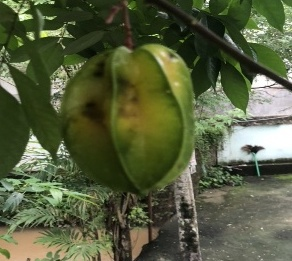Khe: (61, 42, 200, 199)
